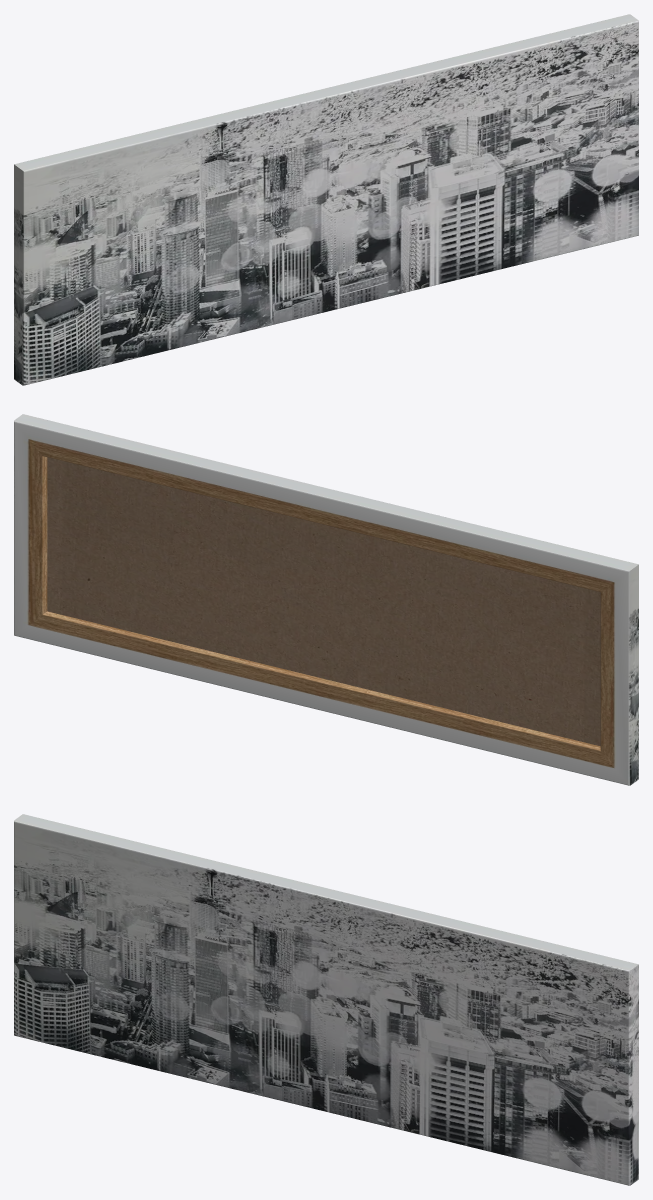
File: abo-B073NZSG22.glb
3 renders of one model, top to bottom at view 1: azimuth 30°, elevation 25°; view 2: azimuth 150°, elevation 25°; view 3: azimuth 330°, elevation 25°, orthographic.
Size of the model in its own units: 1.52 by 0.507 by 0.044.
Materials: 1 (1 with a texture image).
